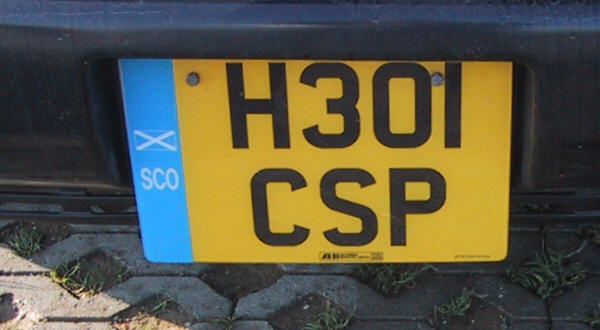license_plate: (119, 59, 515, 261)
